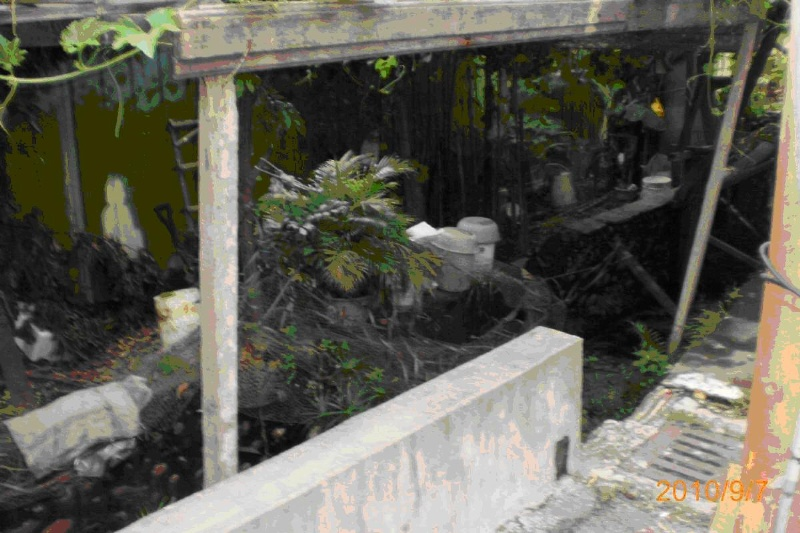bowl: (431, 227, 481, 255), (457, 216, 502, 243)
bucket: (153, 287, 200, 349)
